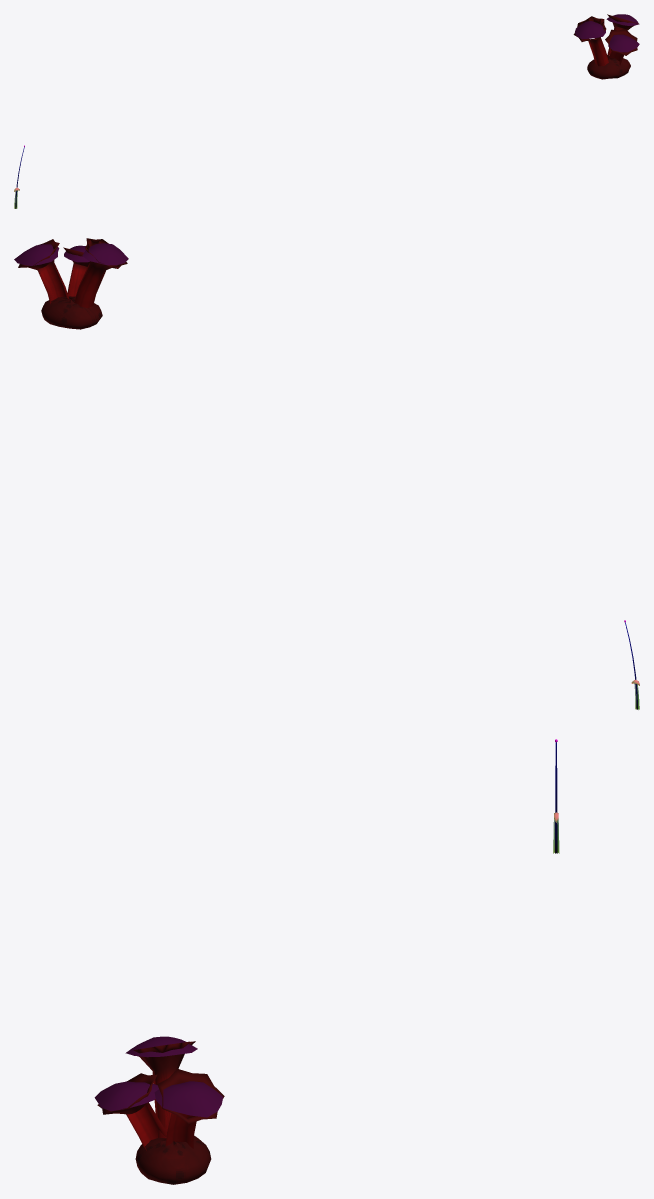
The model's file is hammer.glb.
The picture shows the model from 3 angles, top to bottom: view 1: azimuth 30°, elevation 25°; view 2: azimuth 150°, elevation 25°; view 3: azimuth 270°, elevation 25°; orthographic projection. The views are drawn at different scales.
Visible parts, largest first — view 1: Body; view 2: Body; view 3: Body.
Boxes of the visible parts, x1,y1,x2,y2 form: Body: [573, 14, 639, 79]; Body: [14, 238, 128, 329]; Body: [94, 1036, 224, 1184].
Bounding box in the file's own units: 64.18 × 16.48 × 24.28.
5 materials, 4 textured.
